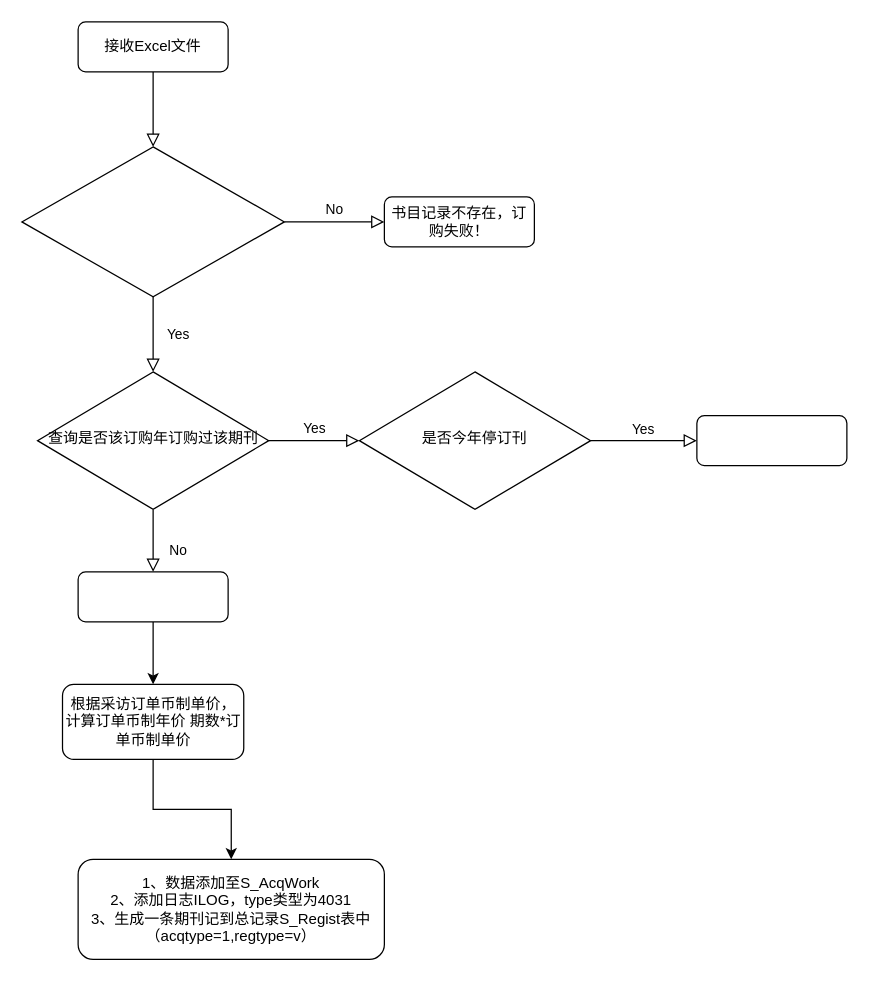
This 869x981 diagram has some shape labels left out. Each missing label, with the box of its shape:
查询书目记录号是否存在biblios: (21, 146, 284, 297)
根据周期 计算期数: (77, 571, 228, 622)
此刊已被停订，订购失败！: (696, 414, 847, 466)
